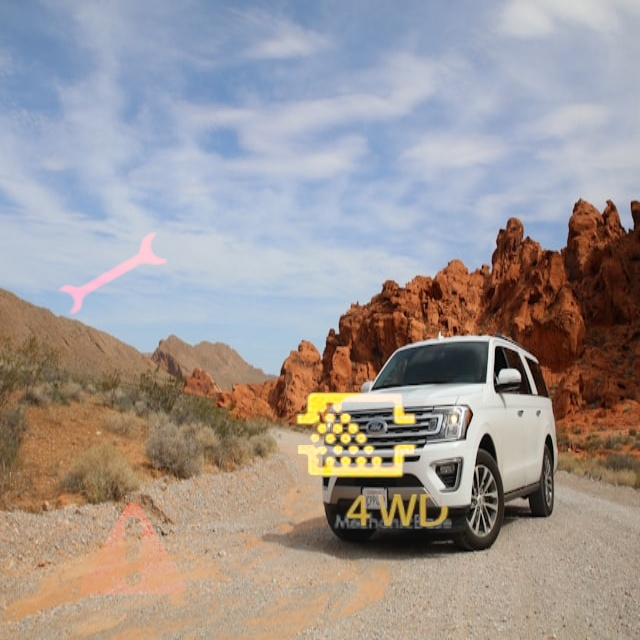symbol: (254, 333, 460, 539), (24, 184, 206, 366), (48, 465, 217, 634), (333, 448, 460, 575)
